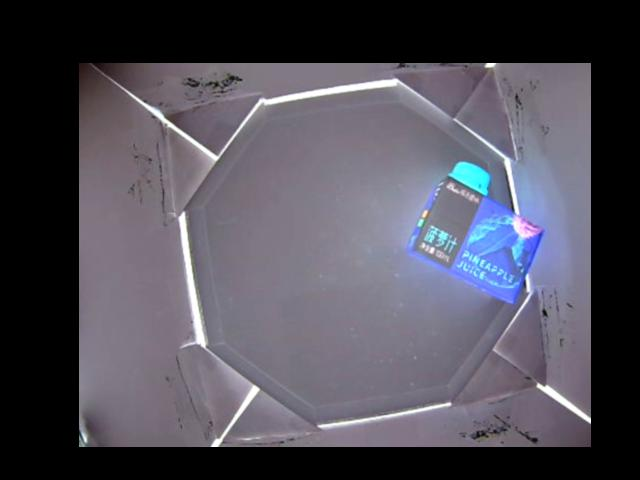Bottle: (409, 162, 547, 304)
